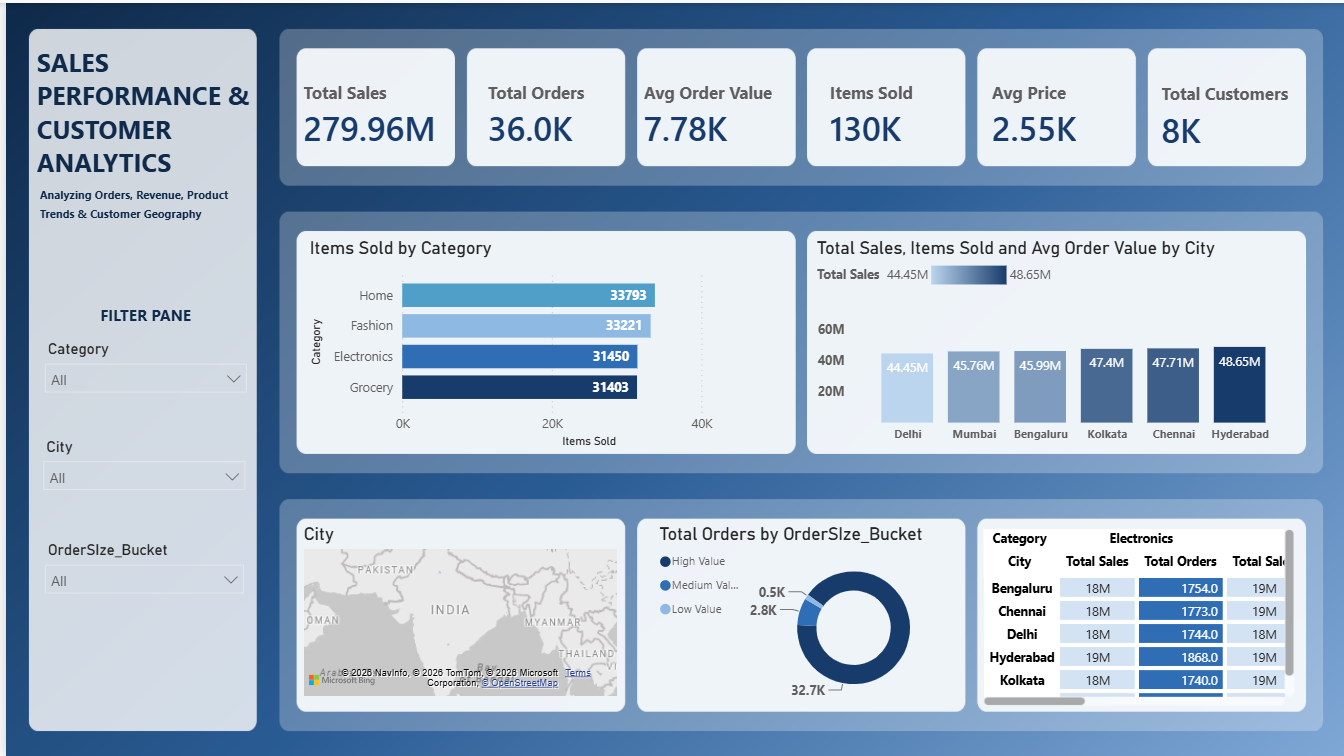

What the dashboard file says about the page in this screenshot:
{"tool":"powerbi","page":{"name":"Page 1","canvas":[1280,720],"ordinal":0},"visuals":[{"type":"cardVisual","fields":{"Data":["Fact_Orders.Total Sales"]},"box":[255.2,50.3,209.8,114.1],"z":0},{"type":"cardVisual","fields":{"Data":["Fact_Orders.Total Orders"]},"box":[430.7,50.3,173,114.1],"z":1000},{"type":"cardVisual","fields":{"Data":["Fact_Orders.Avg Order Value"]},"box":[580.4,50.3,189,114.1],"z":2000},{"type":"cardVisual","fields":{"Data":["Fact_Orders.Items Sold"]},"box":[758.3,50.3,189,114.1],"z":3000},{"type":"cardVisual","fields":{"Data":["Fact_Orders.Avg Price"]},"box":[912.9,50.3,189,114.1],"z":4000},{"type":"cardVisual","fields":{"Data":["Fact_Orders.Total Customers"]},"box":[1074.9,51.5,189,114.1],"z":5000},{"type":"clusteredBarChart","fields":{"Category":["Dim_Products.Category"],"Y":["Fact_Orders.Items Sold"]},"box":[285,223.8,465,205],"z":6000},{"type":"columnChart","fields":{"Y":["Fact_Orders.Total Sales"],"Category":["Dim_Customers.City"]},"box":[769.3,223.3,465,204.9],"z":7000},{"type":"donutChart","fields":{"Category":["Fact_Orders.OrderSIze_Bucket"],"Y":["Fact_Orders.Total Orders"]},"box":[618.4,496.9,294.5,179.1],"z":8000},{"type":"pivotTable","fields":{"Rows":["Dim_Customers.City"],"Columns":["Dim_Products.Category"],"Values":["Fact_Orders.Total Sales","Fact_Orders.Total Orders"]},"box":[927.6,496.9,306.8,179.1],"z":9000},{"type":"filledMap","fields":{"Category":["Dim_Customers.City"]},"box":[279.8,496.9,309.2,169.3],"z":10000},{"type":"textbox","box":[24.5,34.4,255.2,148.5],"z":11000},{"type":"slicer","fields":{"Values":["Dim_Products.Category"]},"box":[27.5,316.2,212.5,87.5],"z":12000},{"type":"slicer","fields":{"Values":["Dim_Customers.City"]},"box":[26.2,410,212.5,87.5],"z":13000},{"type":"slicer","fields":{"Values":["Fact_Orders.OrderSIze_Bucket"]},"box":[27.5,508.8,210,86.2],"z":14000},{"type":"textbox","box":[27.5,167.5,212.5,56.2],"z":14001},{"type":"textbox","box":[27.5,282.5,212.5,33.8],"z":14002}]}

Visuals, with their boxes in screenshot pixels (x1, y1, x2, y2), scaled from the page's 1280x720 canvas onto the 1344x756 screenshot:
cardVisual - Fact_Orders.Total Sales: bbox(268, 53, 488, 173)
cardVisual - Fact_Orders.Total Orders: bbox(452, 53, 634, 173)
cardVisual - Fact_Orders.Avg Order Value: bbox(609, 53, 808, 173)
cardVisual - Fact_Orders.Items Sold: bbox(796, 53, 995, 173)
cardVisual - Fact_Orders.Avg Price: bbox(959, 53, 1157, 173)
cardVisual - Fact_Orders.Total Customers: bbox(1129, 54, 1327, 174)
clusteredBarChart - Dim_Products.Category x Fact_Orders.Items Sold: bbox(299, 235, 788, 450)
columnChart - Fact_Orders.Total Sales x Dim_Customers.City: bbox(808, 234, 1296, 450)
donutChart - Fact_Orders.OrderSIze_Bucket x Fact_Orders.Total Orders: bbox(649, 522, 959, 710)
pivotTable - Dim_Customers.City x Dim_Products.Category: bbox(974, 522, 1296, 710)
filledMap - Dim_Customers.City: bbox(294, 522, 618, 700)
textbox: bbox(26, 36, 294, 192)
slicer - Dim_Products.Category: bbox(29, 332, 252, 424)
slicer - Dim_Customers.City: bbox(28, 430, 251, 522)
slicer - Fact_Orders.OrderSIze_Bucket: bbox(29, 534, 249, 625)
textbox: bbox(29, 176, 252, 235)
textbox: bbox(29, 297, 252, 332)
